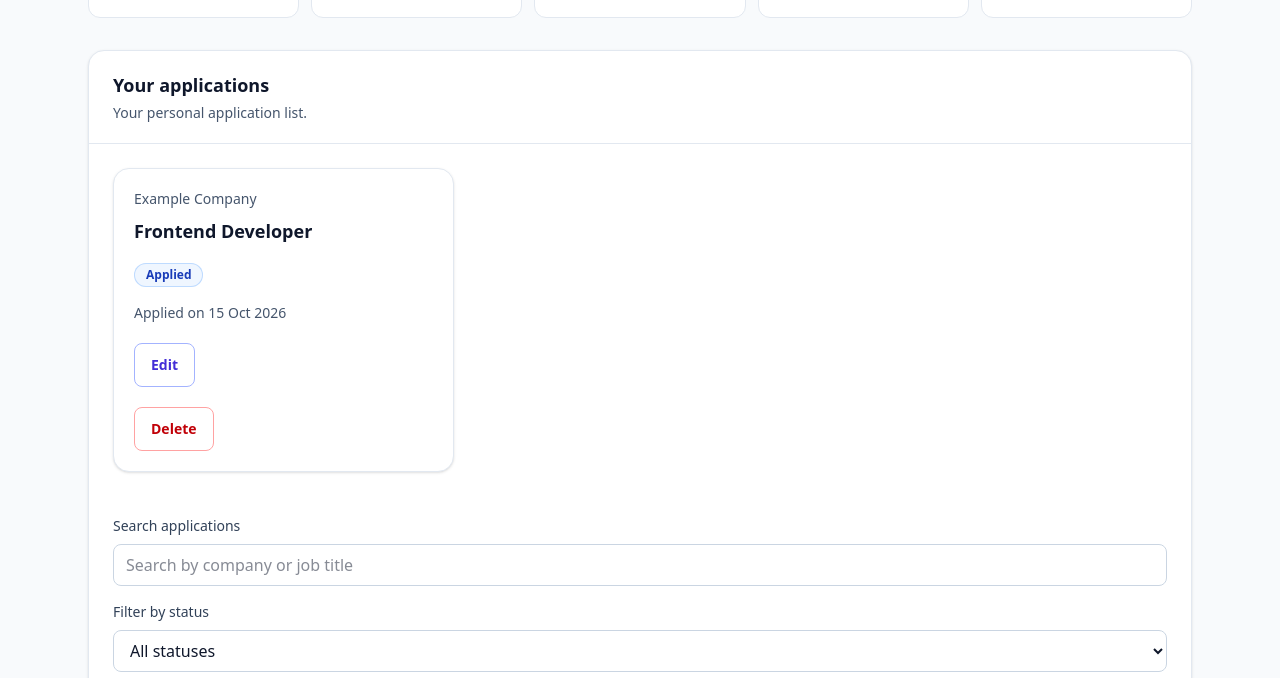
it: dashboard application management › edits an application without changing its identity or adding a duplicate
(page scrolled)
Click the button with aria-label "Edit Frontend Developer at Example Company" at [165, 365], box top-left (134, 343), bottom-right (195, 387)
(page scrolled)
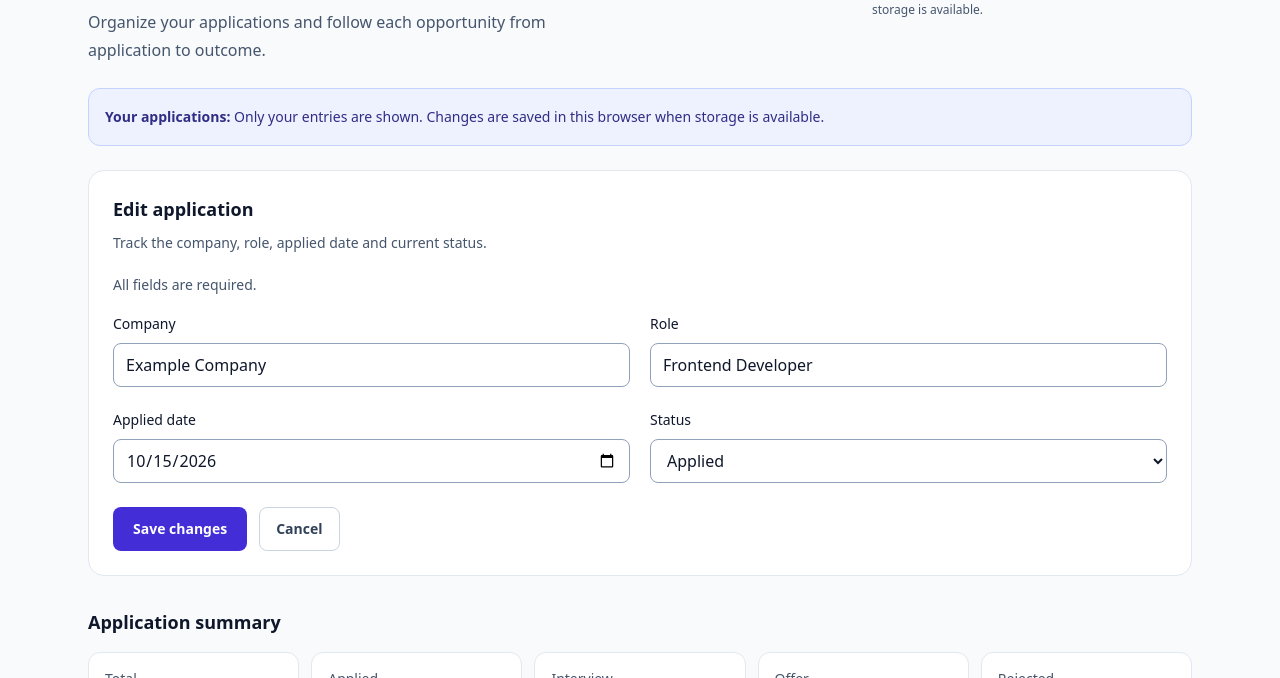
expect the field labelled "Role" holds "Frontend Developer": met
Replace the text in the field labelled "Role" with "React Developer" at [908, 365], box top-left (650, 343), bottom-right (1167, 387)
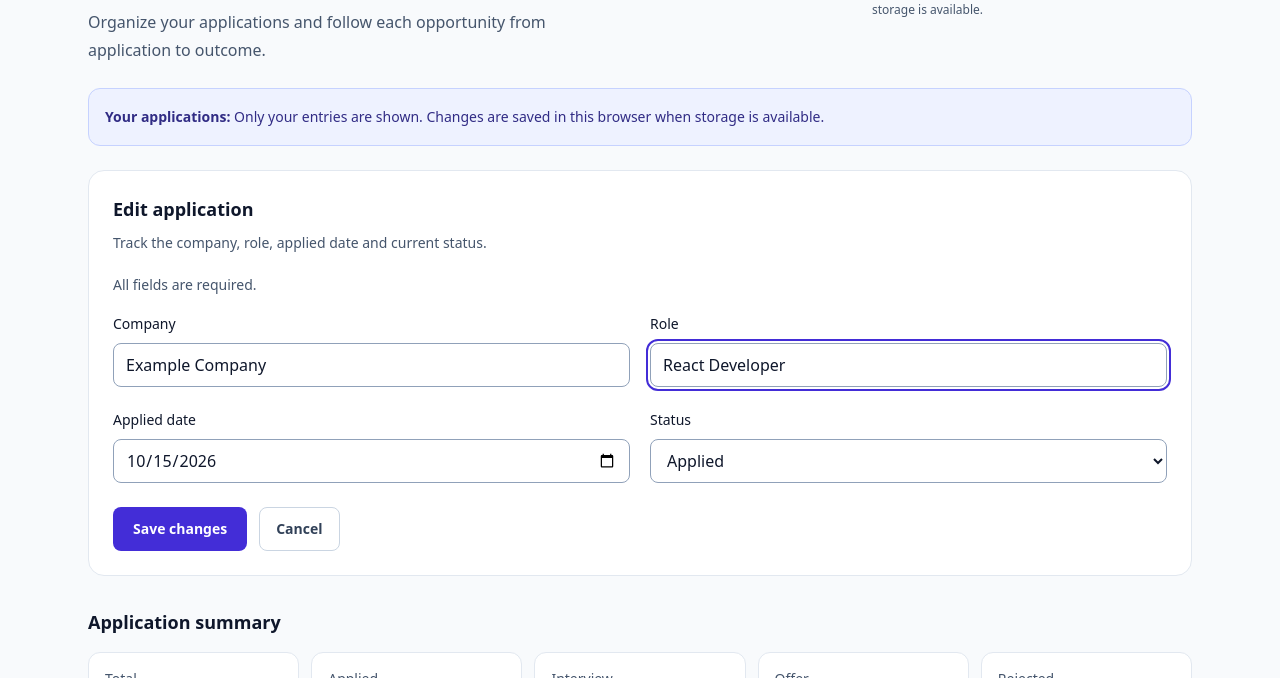
Select "Interview" in the dropdown labelled "Status" at [908, 461], box top-left (650, 439), bottom-right (1167, 483)
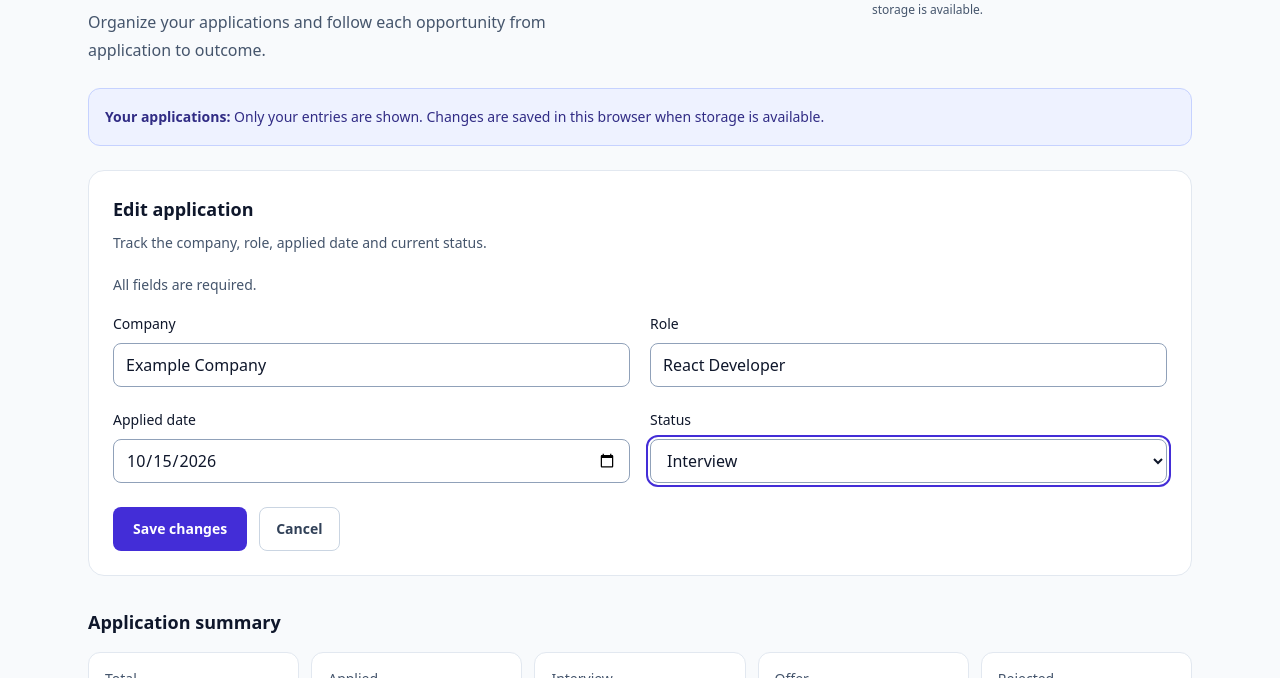
Click the button "Save changes" at [180, 529], box top-left (113, 507), bottom-right (247, 551)
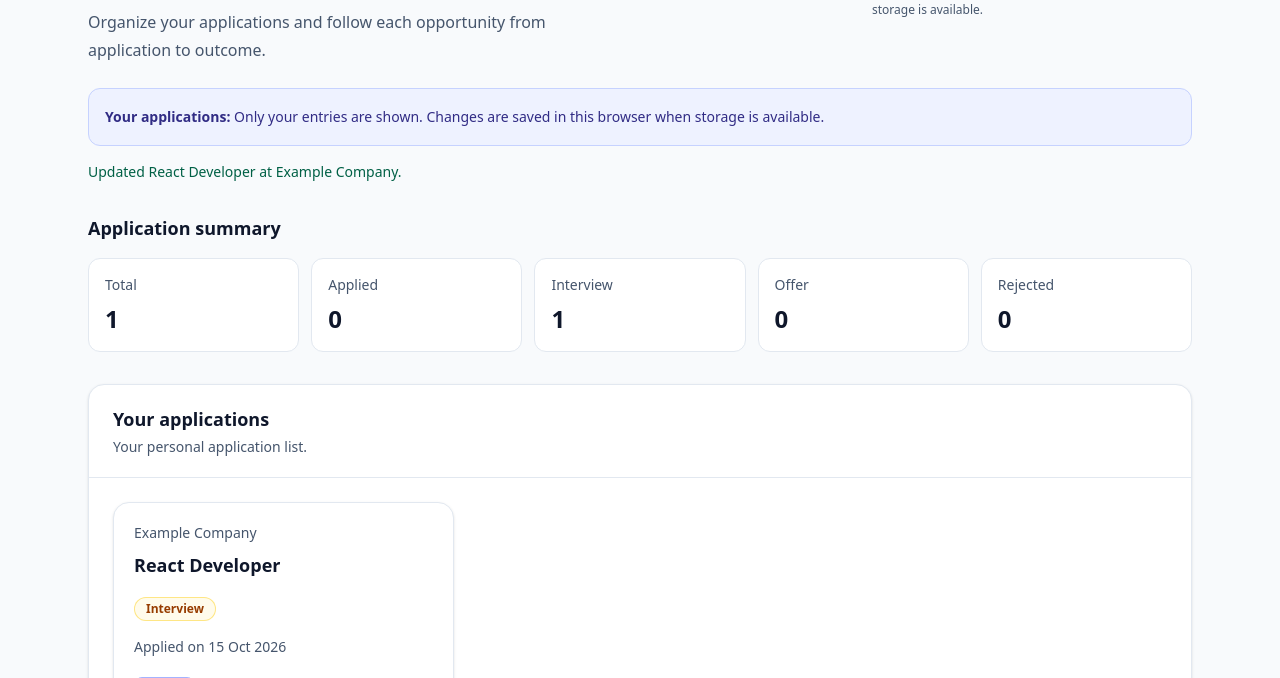
expect the heading "Frontend Developer" is not shown: met
expect the text "Interview" below "Your personal application list." is shown: met, box top-left (146, 600), bottom-right (204, 617)
